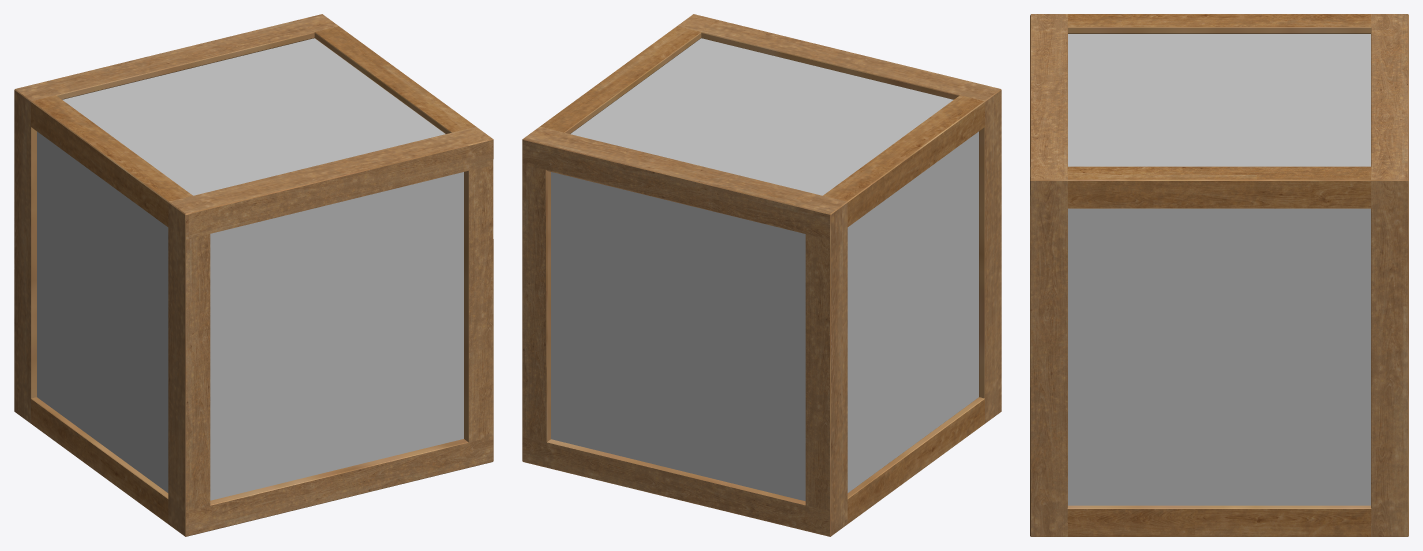
The model's file is 12279_Container_v1_l1.obj.
The picture shows the model from 3 angles, left to right: view 1: azimuth 30°, elevation 25°; view 2: azimuth 150°, elevation 25°; view 3: azimuth 270°, elevation 25°; orthographic projection. The views are drawn at different scales.
Parts seen in each view (by area): view 1: Container_1, Container_2; view 2: Container_1, Container_2; view 3: Container_1, Container_2.
Boxes of the visible parts, x1,y1,x2,y2 form: Container_1: (37, 38, 463, 500); Container_2: (14, 14, 493, 536); Container_1: (551, 38, 978, 501); Container_2: (522, 14, 1001, 536); Container_1: (1068, 34, 1370, 505); Container_2: (1030, 14, 1408, 536).
Bounding box in the file's own units: 40.94 × 40.96 × 39.36.
